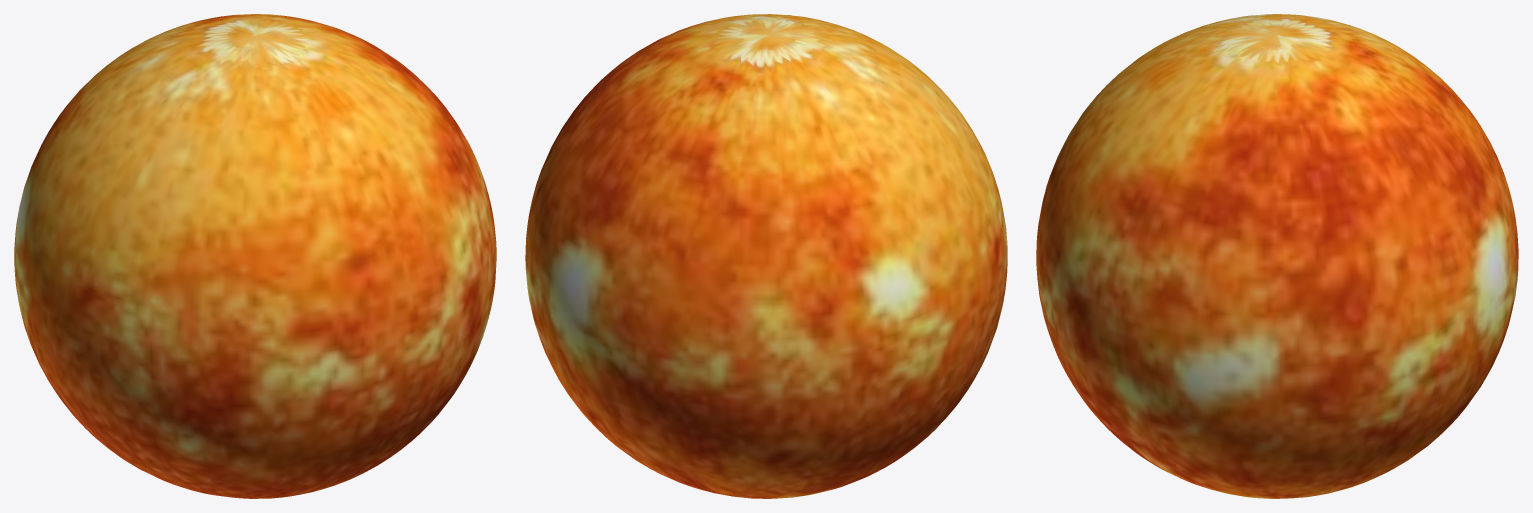
Rendered from sun.glb.
3 renders of one model, left to right at view 1: azimuth 30°, elevation 25°; view 2: azimuth 150°, elevation 25°; view 3: azimuth 270°, elevation 25°, orthographic.
Parts seen in each view (by area): view 1: Sphere_2; view 2: Sphere_2; view 3: Sphere_2.
Part boxes in pixels (x1,y1,x2,y2): Sphere_2: [14, 14, 496, 498]; Sphere_2: [525, 14, 1007, 498]; Sphere_2: [1036, 14, 1518, 498].
Bounding box in the file's own units: 5.2 × 5.25 × 5.2.
Materials: 1 (1 with a texture image).
